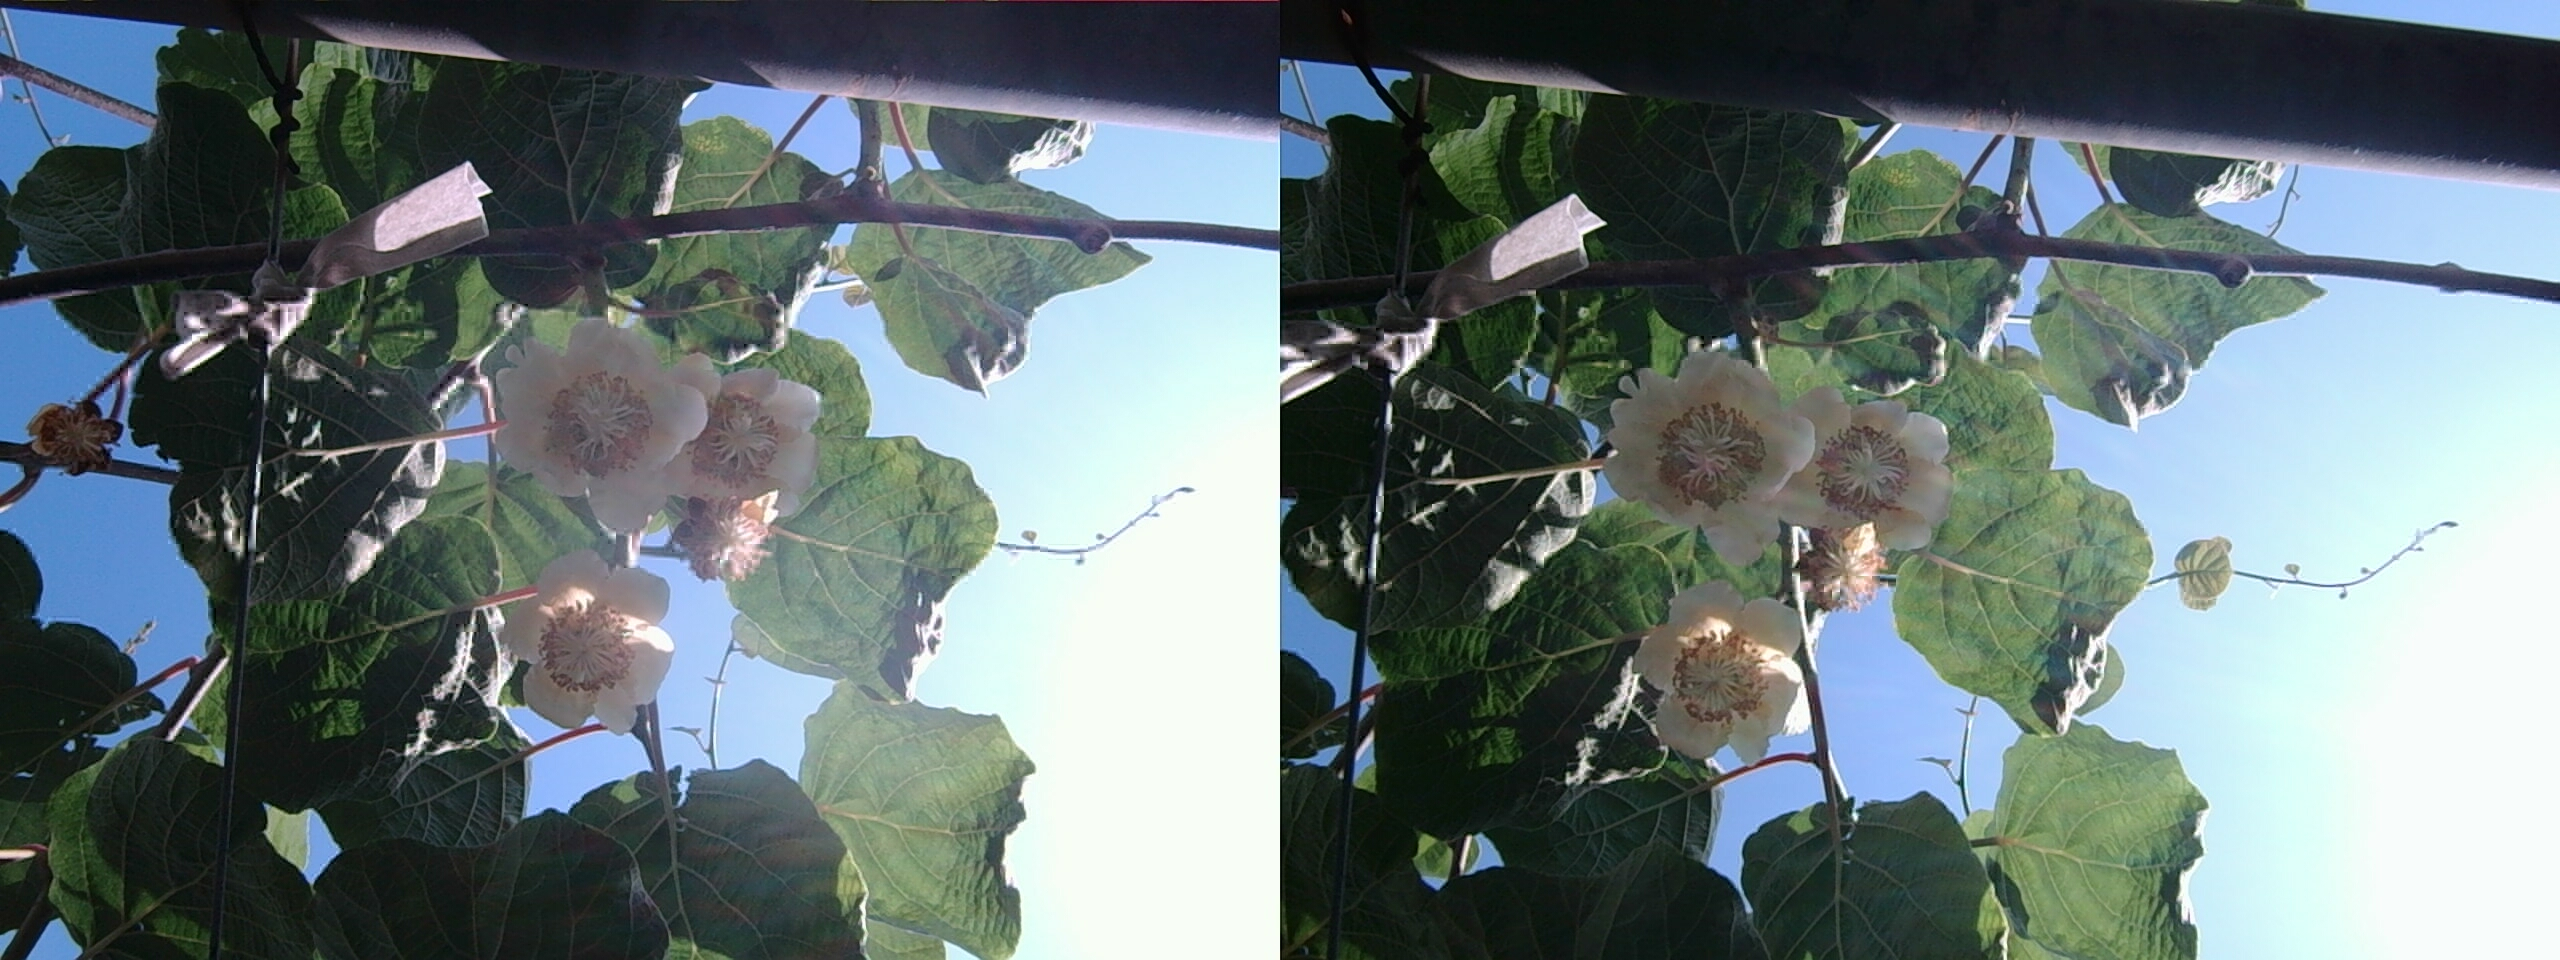flower: (482, 317, 707, 526), (1592, 336, 1817, 544), (648, 359, 821, 563), (500, 549, 682, 731), (1628, 589, 1807, 761), (1773, 385, 1953, 550)
